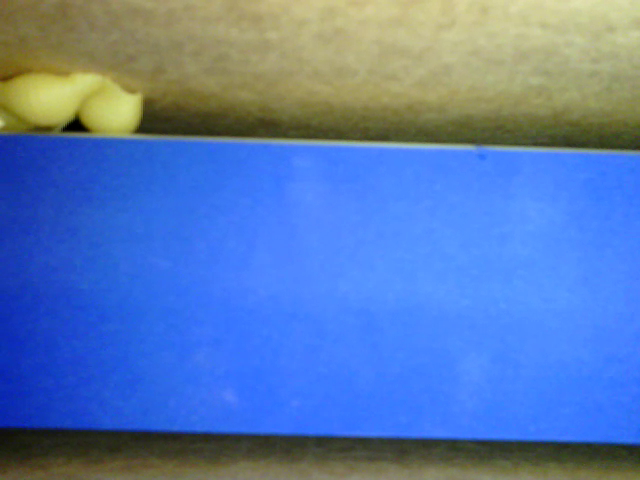shell: (1, 72, 106, 123), (76, 75, 148, 135), (1, 108, 79, 133)
